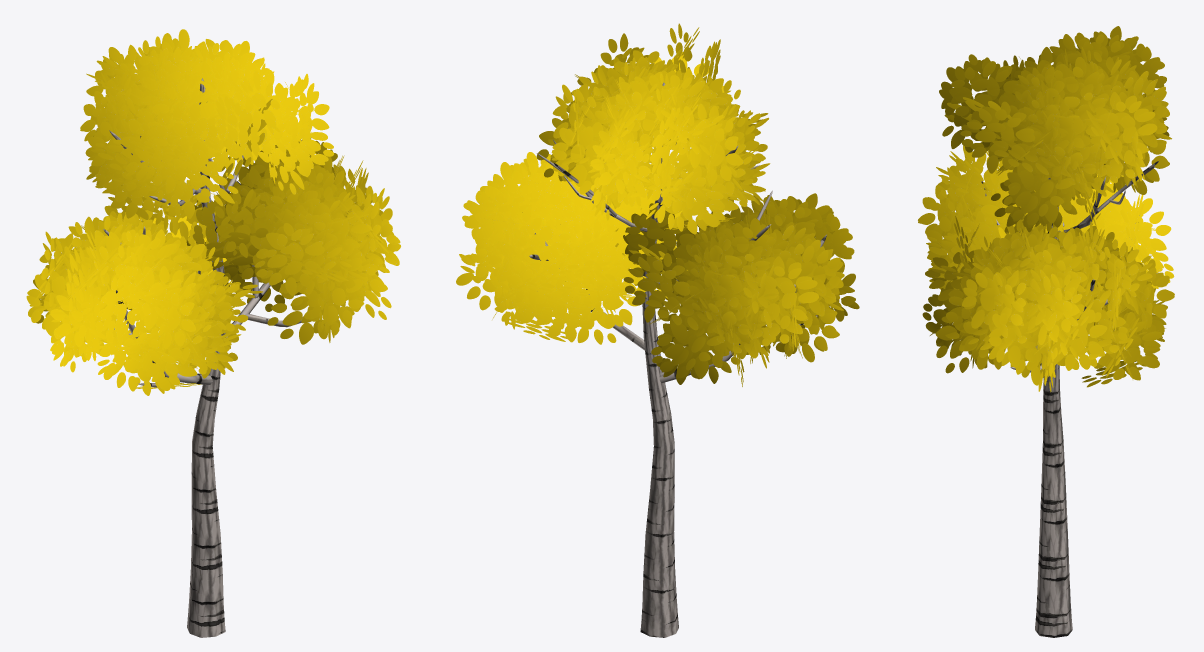
Rendered from q_birch_4.glb.
3 renders of one model, left to right at view 1: azimuth 30°, elevation 25°; view 2: azimuth 150°, elevation 25°; view 3: azimuth 270°, elevation 25°, orthographic.
Visible parts, largest first — view 1: BirchTree_4; view 2: BirchTree_4; view 3: BirchTree_4.
Part boxes in pixels (box(x1,y1,x2,y2)): BirchTree_4: box(26, 29, 400, 637); BirchTree_4: box(456, 23, 859, 637); BirchTree_4: box(918, 26, 1174, 637).
Bounding box in the file's own units: 4.94 × 7.5 × 3.27.
Materials: 2 (2 with a texture image).
